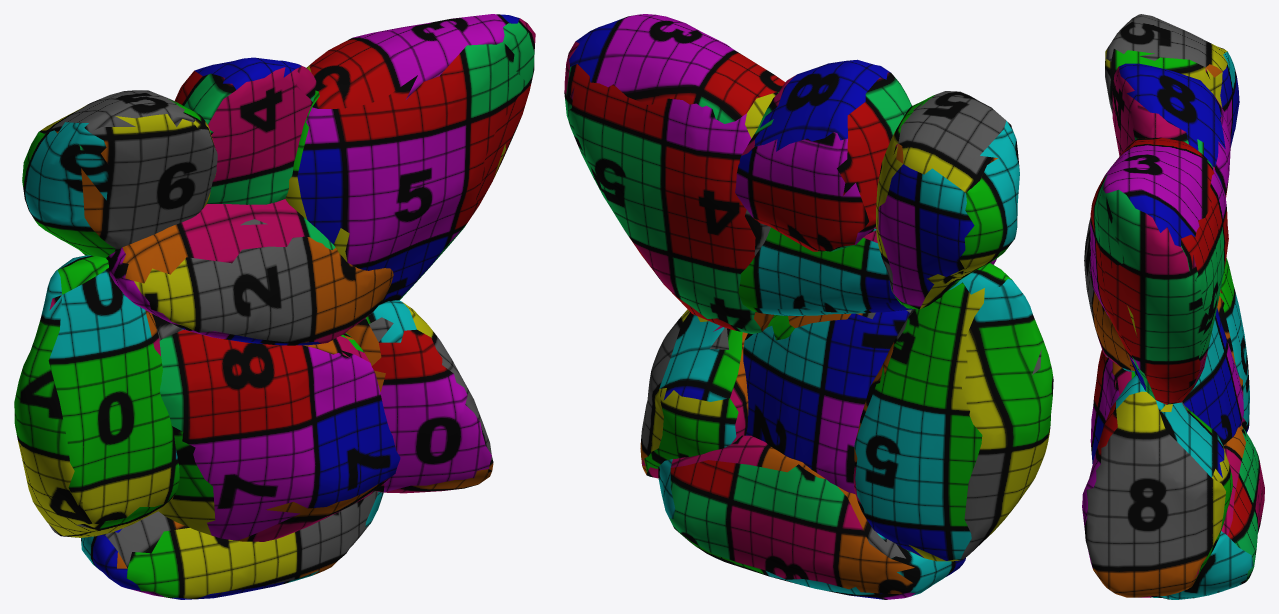
The model's file is rocks_group.fbx.
3 renders of one model, left to right at view 1: azimuth 30°, elevation 25°; view 2: azimuth 150°, elevation 25°; view 3: azimuth 270°, elevation 25°, orthographic. The views are drawn at different scales.
Visible parts, largest first — view 1: polySurface24, polySurface21, polySurface20, polySurface19, polySurface25, polySurface23, polySurface22, polySurface26; view 2: polySurface24, polySurface20, polySurface22, polySurface25, polySurface26, polySurface21, polySurface23, polySurface19; view 3: polySurface24, polySurface23, polySurface26, polySurface25, polySurface22, polySurface21, polySurface20, polySurface19.
Boxes of the visible parts, box(x1,y1,x2,y2) form: polySurface24: box(285, 14, 535, 304); polySurface21: box(152, 313, 400, 541); polySurface20: box(14, 255, 179, 537); polySurface19: box(106, 199, 393, 345); polySurface25: box(22, 90, 217, 257); polySurface23: box(346, 300, 493, 493); polySurface22: box(81, 491, 383, 599); polySurface26: box(174, 57, 316, 204); polySurface24: box(564, 14, 785, 333); polySurface20: box(853, 263, 1053, 561); polySurface22: box(658, 435, 965, 599); polySurface25: box(876, 91, 1019, 309); polySurface26: box(735, 59, 911, 251); polySurface21: box(743, 309, 911, 494); polySurface23: box(640, 309, 748, 478); polySurface19: box(738, 226, 996, 315); polySurface24: box(1090, 137, 1228, 404); polySurface23: box(1082, 375, 1232, 597); polySurface26: box(1112, 63, 1230, 197); polySurface25: box(1105, 14, 1239, 147); polySurface22: box(1153, 425, 1264, 599); polySurface21: box(1090, 308, 1243, 463); polySurface20: box(1217, 257, 1249, 432); polySurface19: box(1084, 173, 1134, 371).
Size of the model in its own units: 6.54 by 6.53 by 2.18.
Materials: 1 (1 with a texture image).
